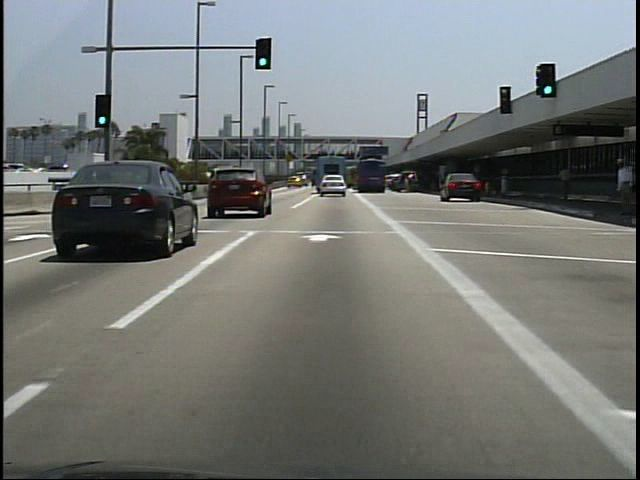person: (615, 151, 636, 219), (553, 158, 574, 206)
